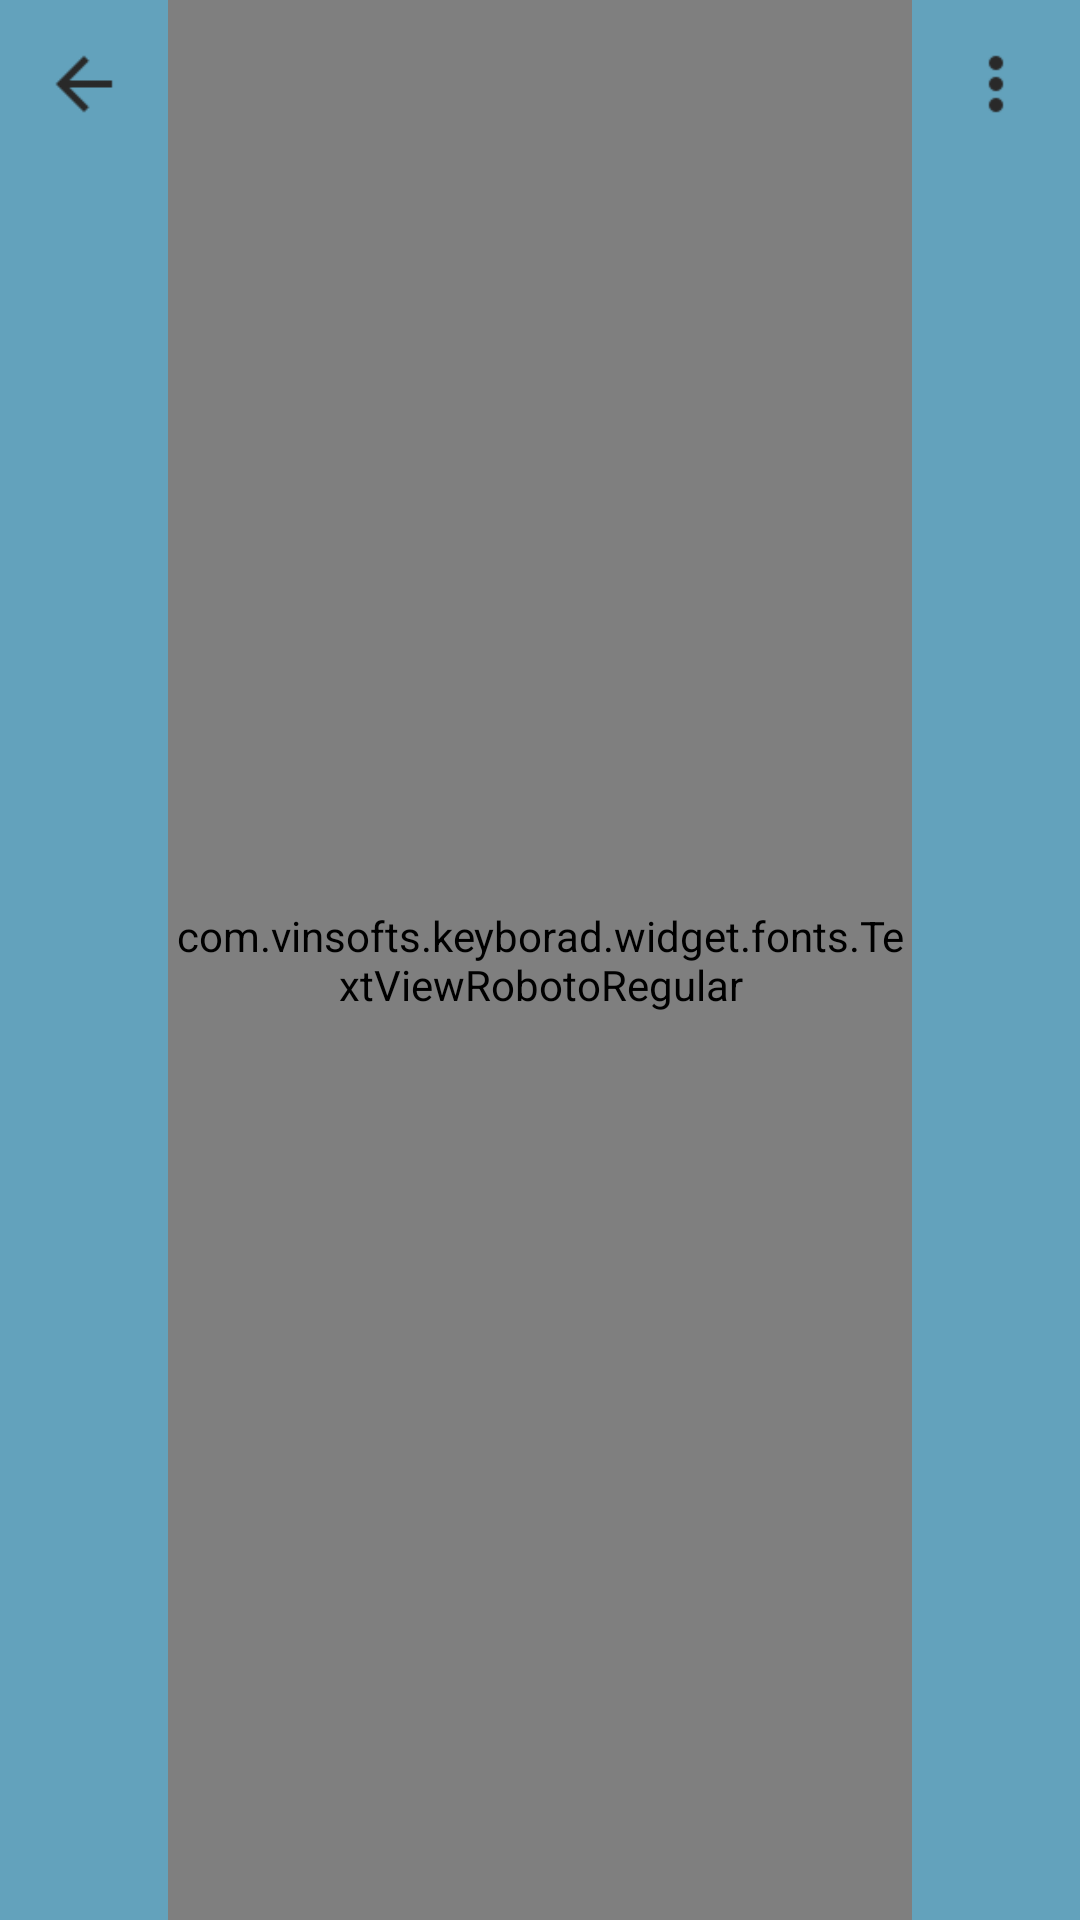

Icon click points for this 1080 × 1920 phone screenshot, format (x,y):
back: (84,84)
more vert: (996,84)
